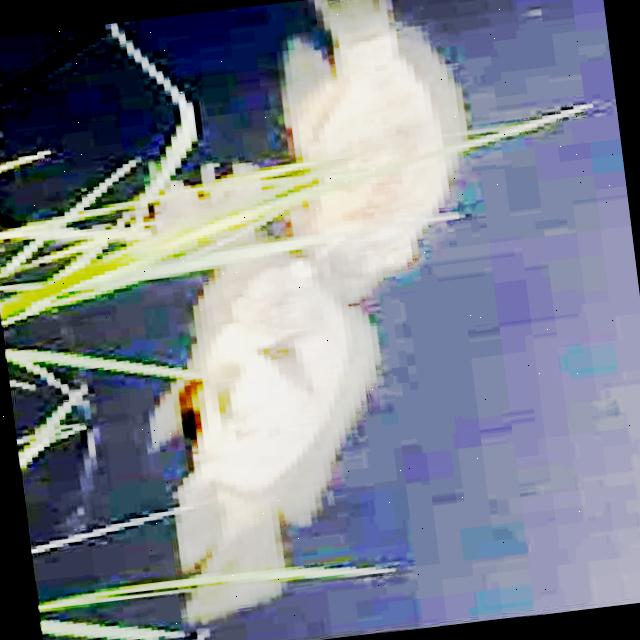Columnaris Disease: (156, 262, 374, 574), (283, 0, 463, 164), (290, 154, 451, 233), (316, 222, 421, 287), (186, 583, 273, 619)
